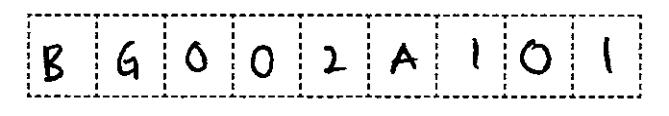0: (514, 35, 558, 80), (246, 40, 280, 85), (178, 36, 213, 76)
1: (590, 30, 626, 78), (458, 30, 490, 75)
2: (317, 37, 352, 80)
A: (384, 37, 426, 80)
B: (36, 38, 71, 84)
G: (111, 38, 145, 85)
